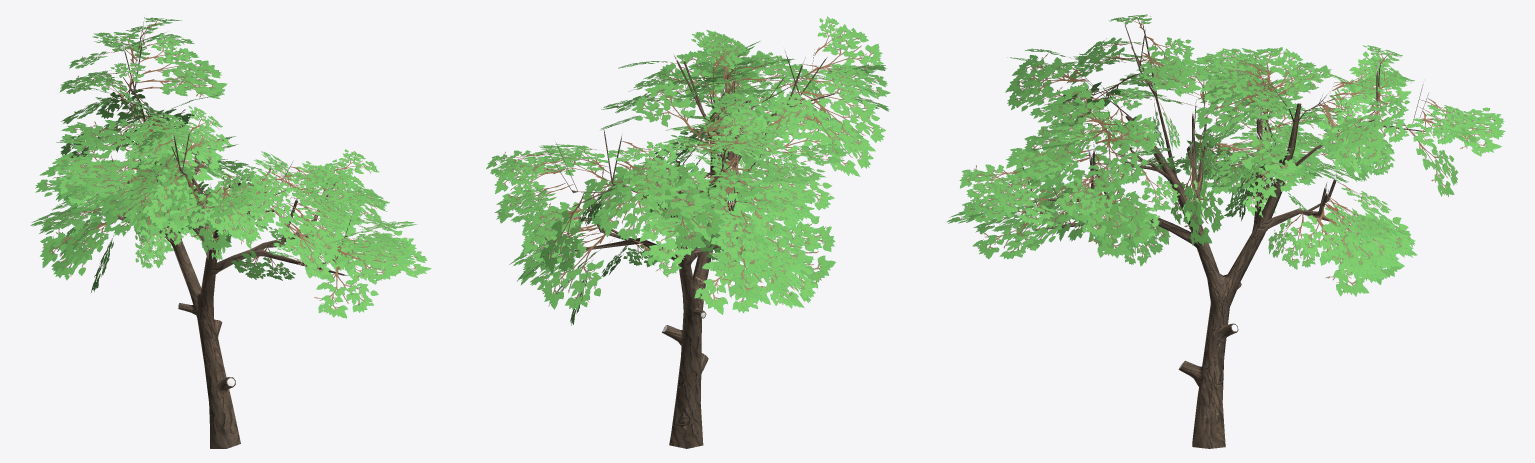
The model's file is tree-5.fbx.
3 renders of one model, left to right at view 1: azimuth 30°, elevation 25°; view 2: azimuth 150°, elevation 25°; view 3: azimuth 270°, elevation 25°, orthographic. The views are drawn at different scales.
Visible parts, largest first — view 1: tree_5; view 2: tree_5; view 3: tree_5.
Part boxes in pixels (x1,y1,x2,y2): tree_5: (30,17,431,448); tree_5: (486,16,890,448); tree_5: (947,14,1505,448).
Bounding box in the file's own units: 11.37 × 13.46 × 18.6.
3 materials, 2 textured.
